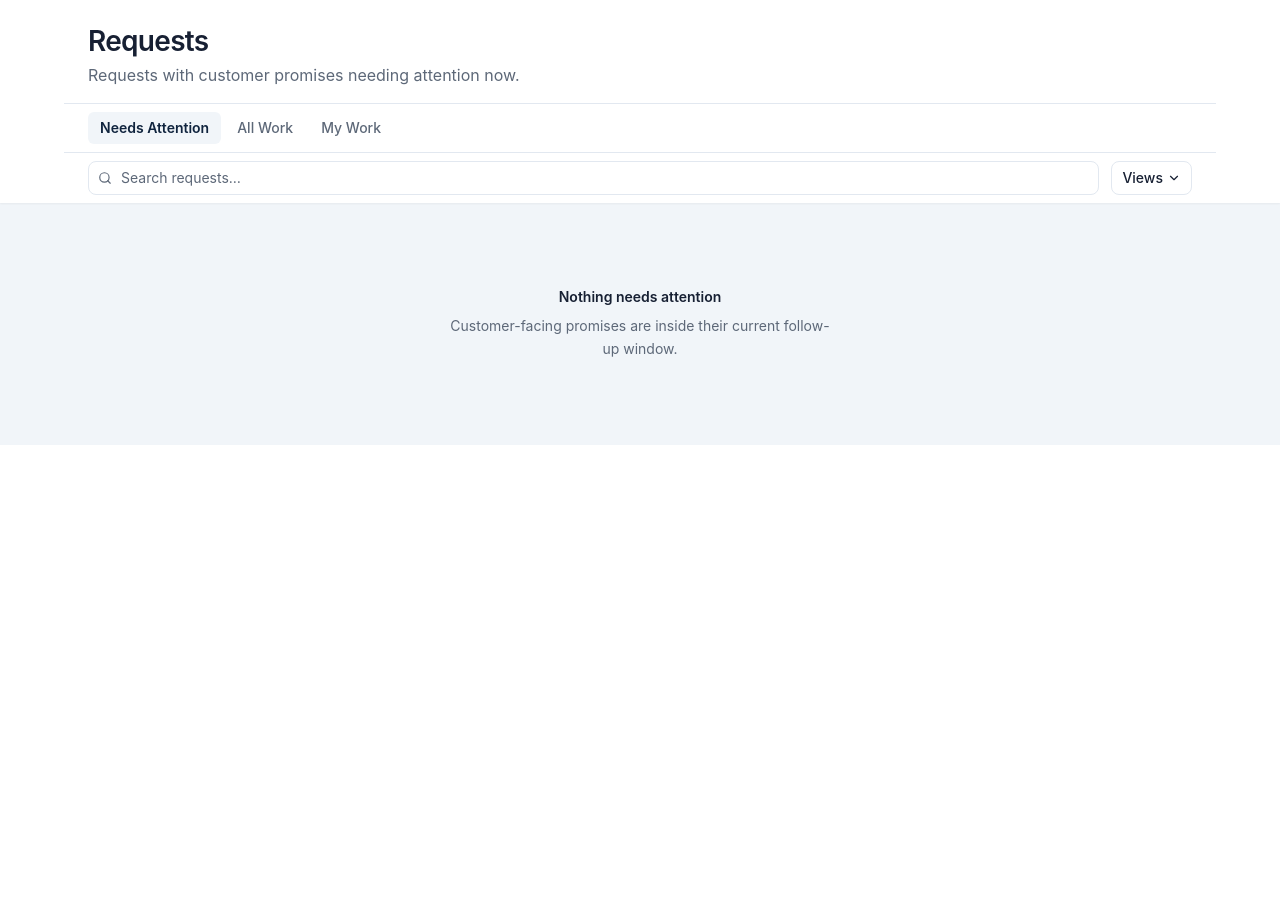
Test: Requests — Views popover a11y (Request Queue header consolidation, locked 2026-08-24) › collapses a zero-count Office Review member into one quiet, non-interactive line
Expected: the tab "Needs Attention" is shown, [88,112,221,144]
Click the button "Views" at (1152, 178), box [1111,161,1192,195]
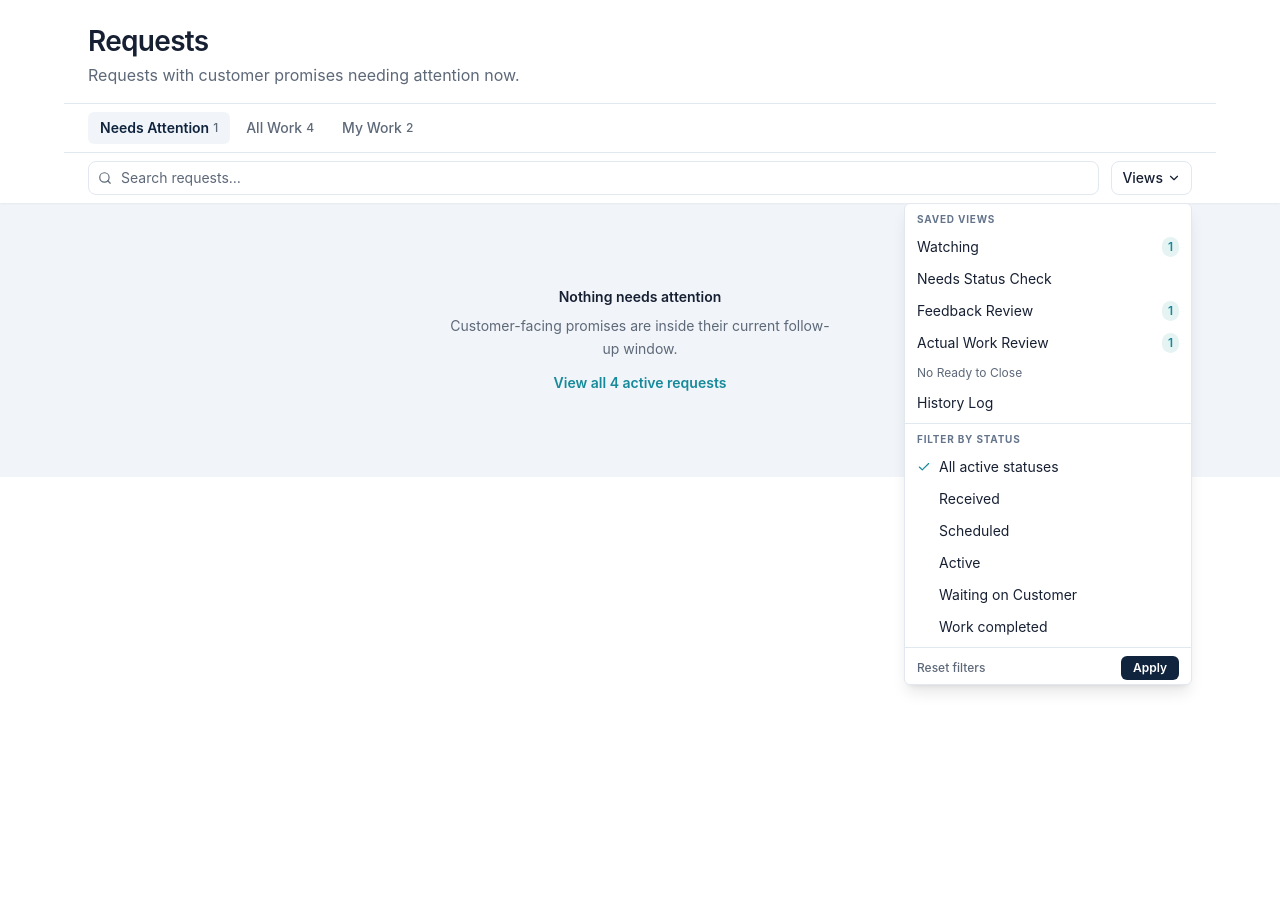
Expected: the button "Feedback Review 1" is shown, [905,295,1191,327]
Expected: the text "No Ready to Close" is shown, [917,365,1022,380]
